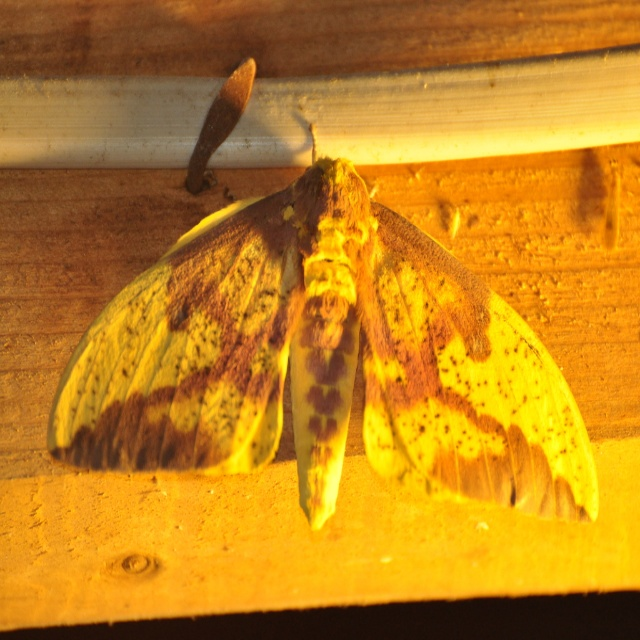Butterfly: (69, 101, 593, 557)
